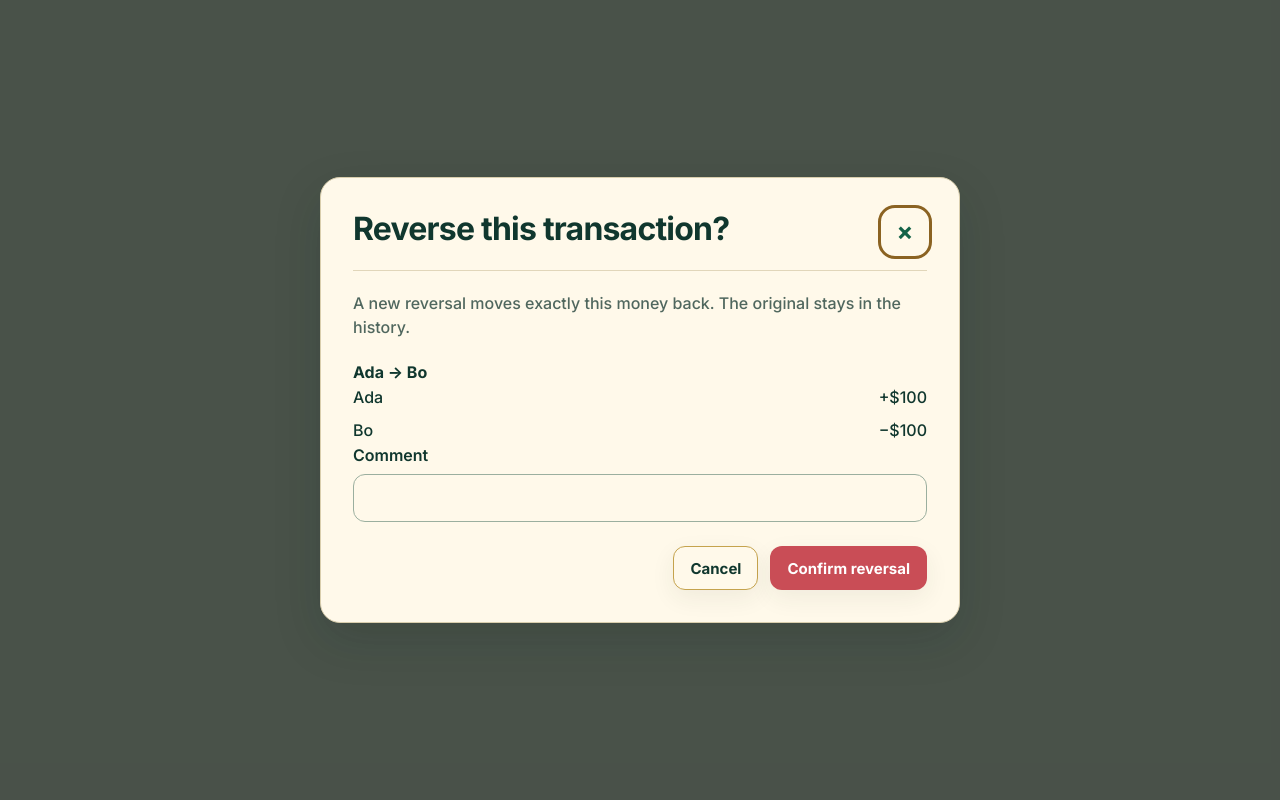
ReverseTransactionDialog › explains TRANSACTION_ALREADY_REVERSED and stays open
Click the button "Confirm reversal" at (849, 568), box [770,546,927,590]
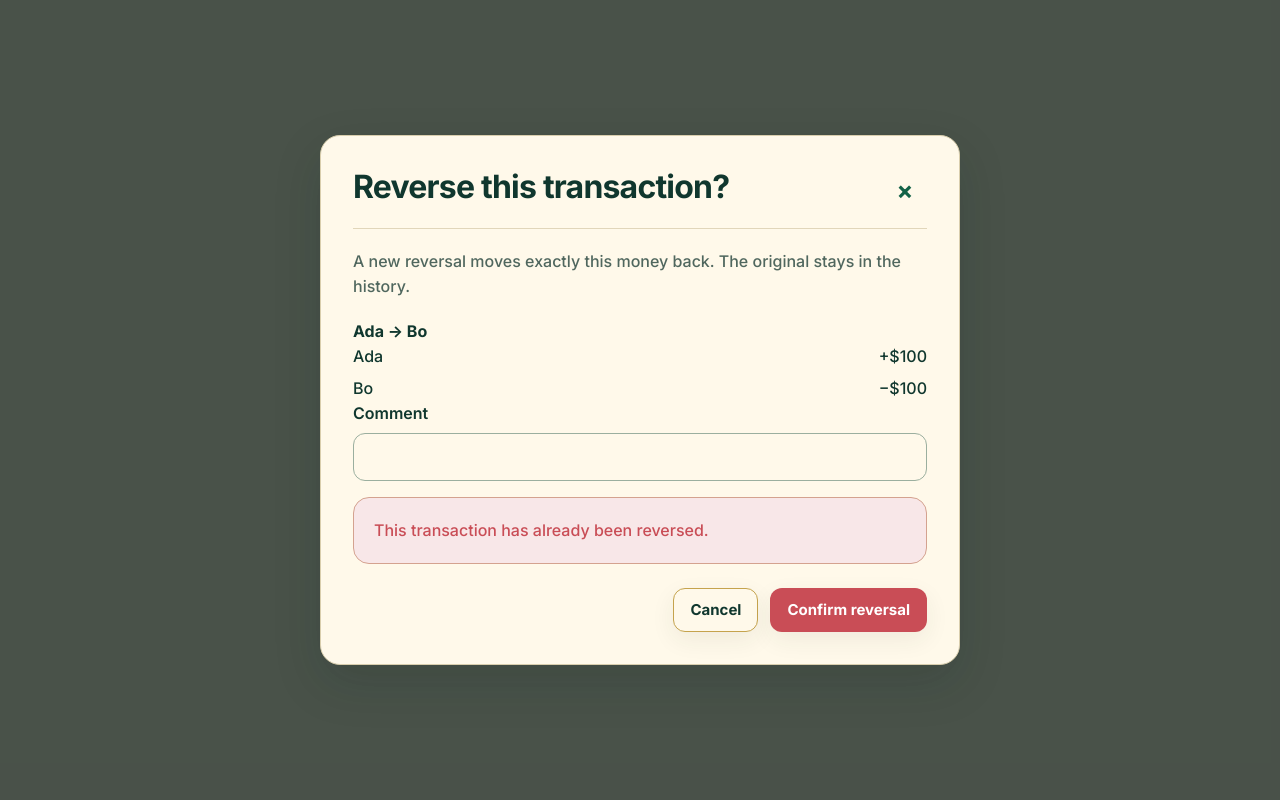
Check: the text "This transaction has already been reversed." is shown, box [353,497,927,564]
